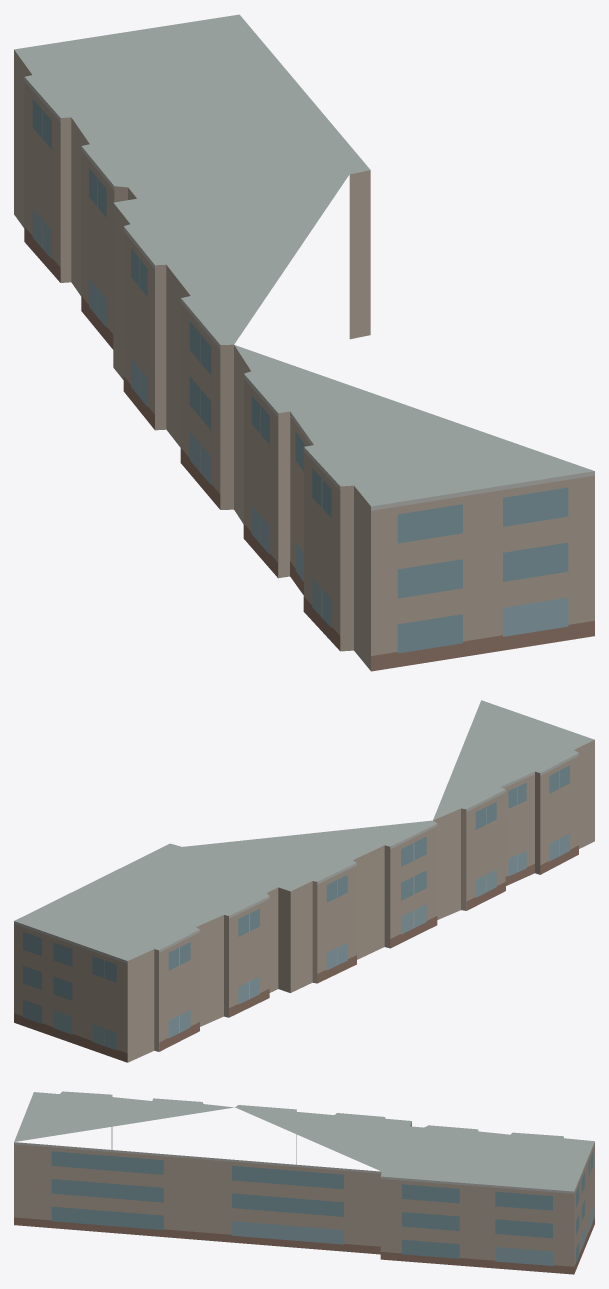
The model's file is survey-upis-32470404.glb.
3 renders of one model, top to bottom at view 1: azimuth 30°, elevation 25°; view 2: azimuth 150°, elevation 25°; view 3: azimuth 270°, elevation 25°, orthographic. The views are drawn at different scales.
Visible parts, largest first — view 1: survey-upis-32470404.tmp; view 2: survey-upis-32470404.tmp; view 3: survey-upis-32470404.tmp.
Part boxes in pixels (x1,y1,x2,y2): survey-upis-32470404.tmp: (14, 14, 594, 671); survey-upis-32470404.tmp: (14, 700, 594, 1062); survey-upis-32470404.tmp: (14, 1091, 594, 1274).
Bounding box in the file's own units: 23.69 × 9.15 × 58.04.
